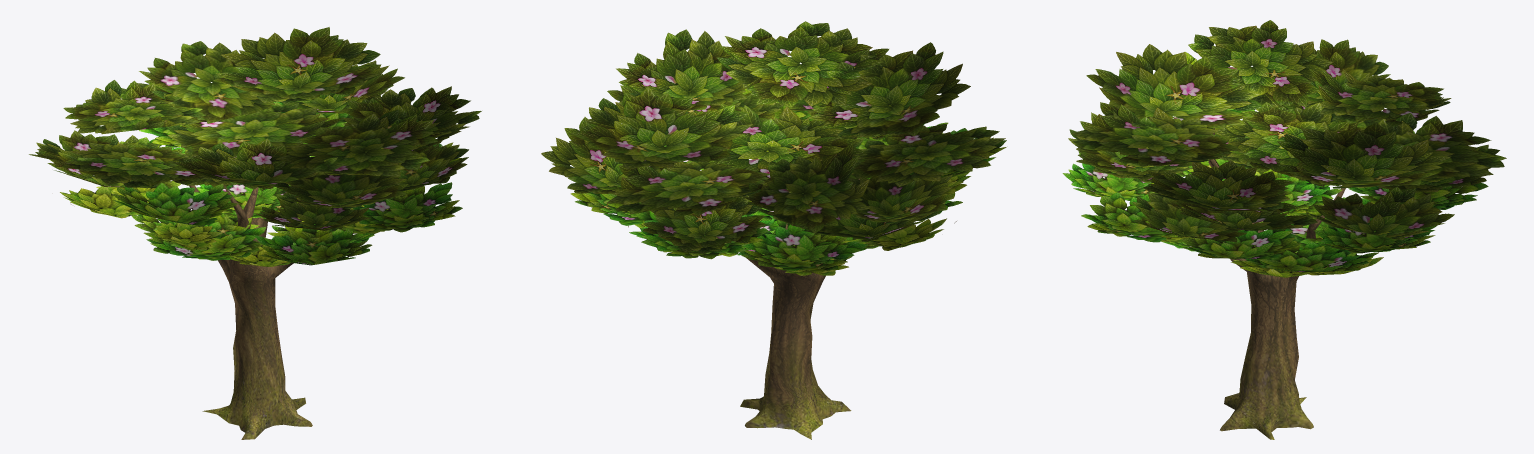
File: tree_model.FBX
The picture shows the model from 3 angles, left to right: view 1: azimuth 30°, elevation 25°; view 2: azimuth 150°, elevation 25°; view 3: azimuth 270°, elevation 25°; orthographic projection.
Parts seen in each view (by area): view 1: Object002, Object003; view 2: Object002, Object003; view 3: Object002, Object003.
Boxes of the visible parts, left/top/right/bottom form: Object002: left=29, top=27, right=481, bottom=266; Object003: left=189, top=184, right=312, bottom=439; Object002: left=541, top=21, right=1006, bottom=279; Object003: left=740, top=179, right=859, bottom=439; Object002: left=1062, top=20, right=1506, bottom=277; Object003: left=1208, top=128, right=1345, bottom=439.
Bounding box in the file's own units: 184 × 137 × 180.
1 material, 1 textured.
